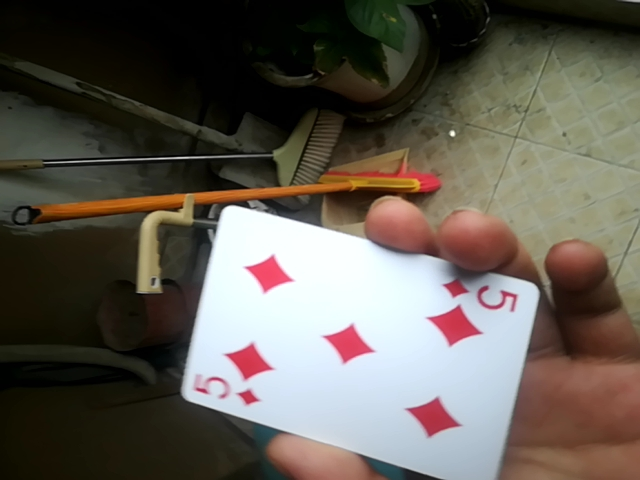fk 5: (173, 200, 539, 479)
